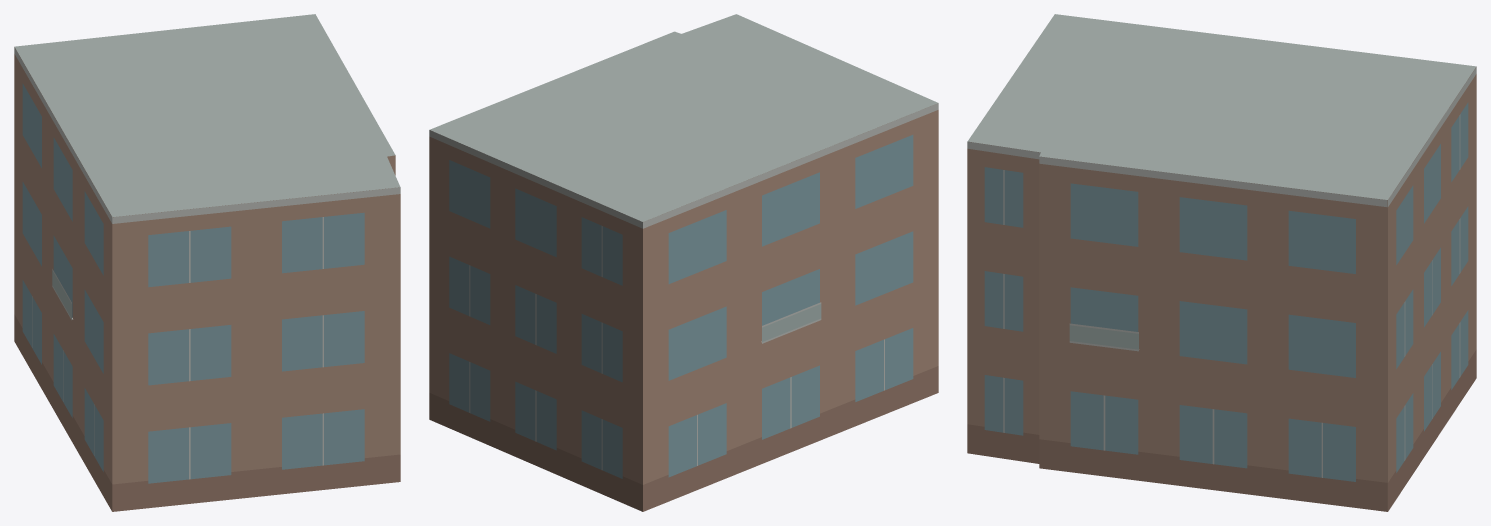
The model's file is survey-upis-33010264.glb.
3 renders of one model, left to right at view 1: azimuth 30°, elevation 25°; view 2: azimuth 150°, elevation 25°; view 3: azimuth 270°, elevation 25°, orthographic. The views are drawn at different scales.
Visible parts, largest first — view 1: survey-upis-33010264.tmp; view 2: survey-upis-33010264.tmp; view 3: survey-upis-33010264.tmp.
Part boxes in pixels (x1,y1,x2,y2): survey-upis-33010264.tmp: [14, 14, 400, 511]; survey-upis-33010264.tmp: [429, 14, 938, 511]; survey-upis-33010264.tmp: [967, 14, 1476, 511].
Size of the model in its own units: 13.52 by 10.55 by 15.62.
